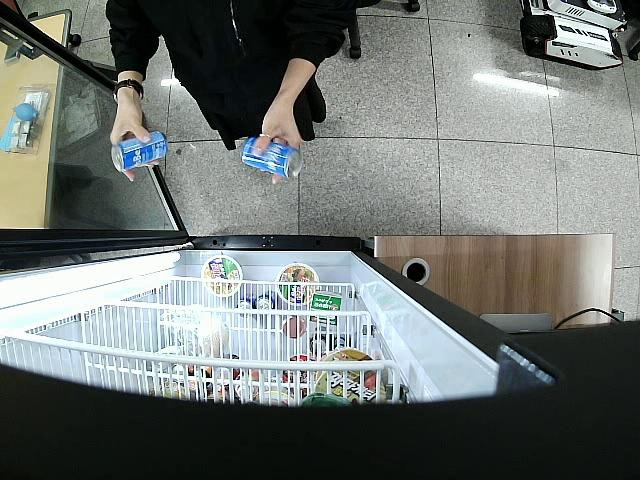00_hand: (252, 92, 303, 185), (111, 102, 152, 181)
15_letsbe: (243, 136, 304, 181), (113, 131, 169, 170)
